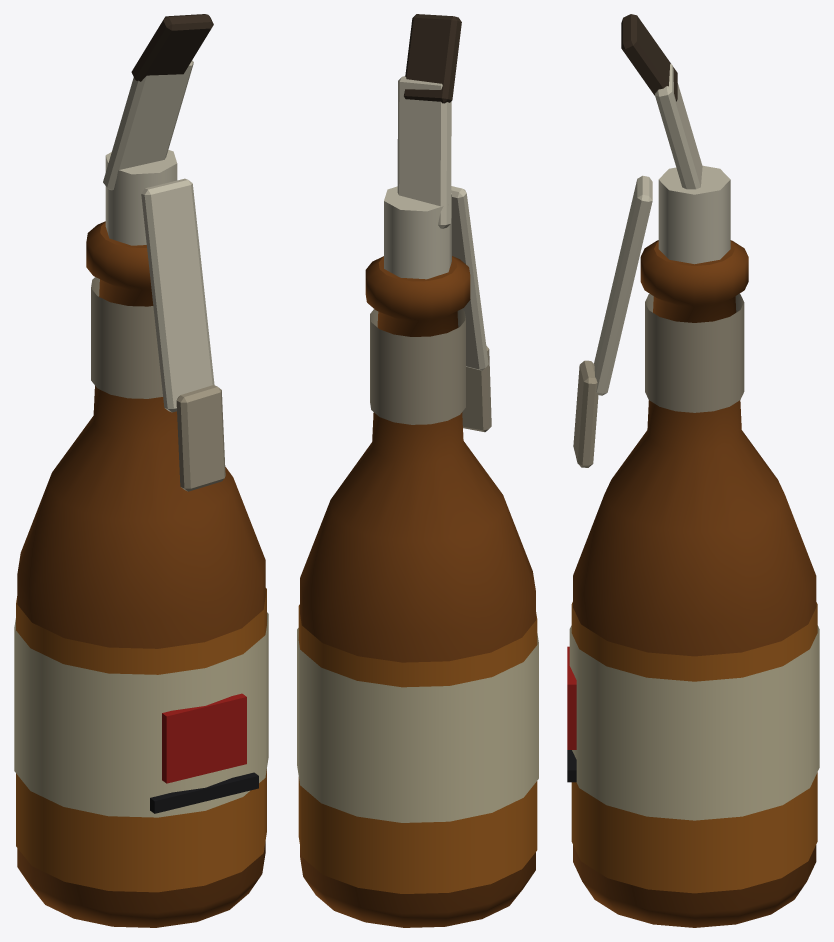
The model's file is Molotov.fbx.
3 views of the same model, side by side, from view 1: azimuth 30°, elevation 25°; view 2: azimuth 150°, elevation 25°; view 3: azimuth 270°, elevation 25° (orthographic). The views are drawn at different scales.
Visible parts, largest first — view 1: Molotov; view 2: Molotov; view 3: Molotov.
Boxes of the visible parts, <box> form: Molotov: <box>14,14,268,927</box>; Molotov: <box>297,14,538,927</box>; Molotov: <box>567,14,819,927</box>.
Size of the model in its own units: 41.83 by 160 by 42.21.
